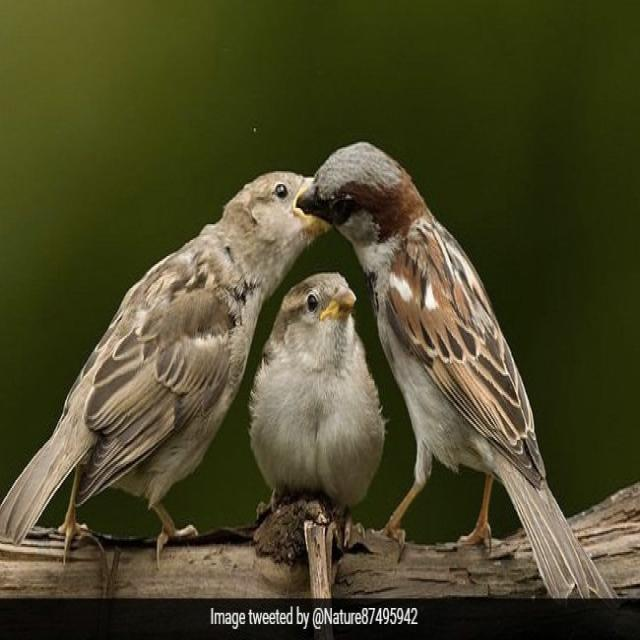sparrow: (299, 142, 614, 597), (0, 171, 329, 554), (249, 272, 385, 541)
